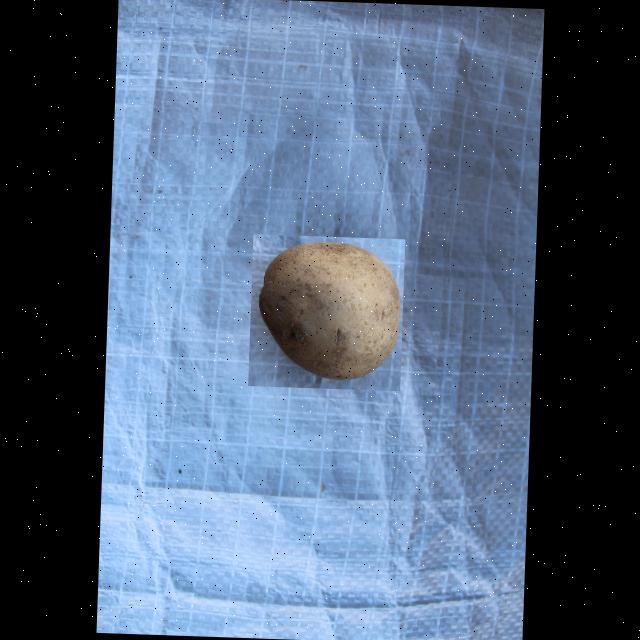Diseased-fungal potato: (248, 232, 405, 390)
